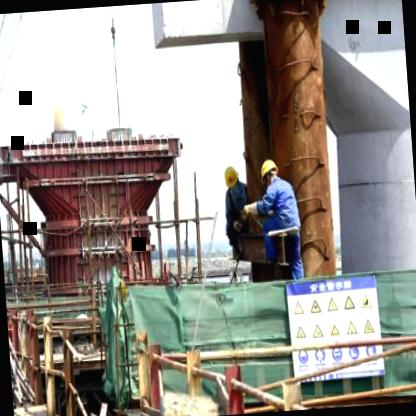helmet: (258, 153, 280, 190), (224, 163, 240, 190)
